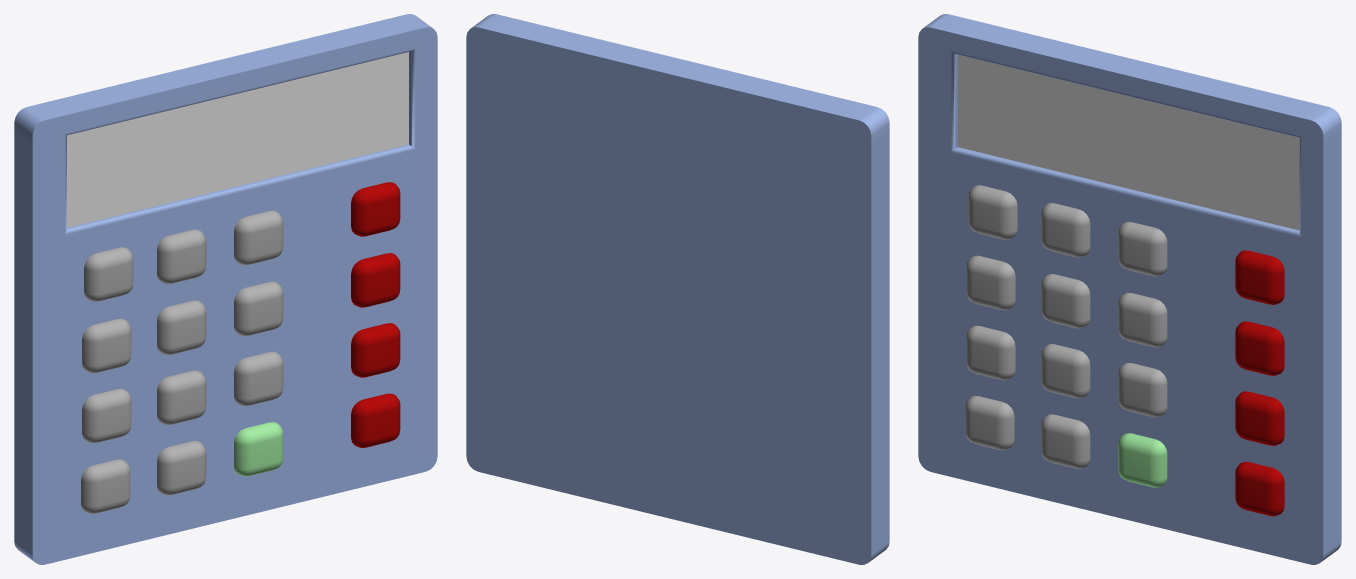
File: Calculatrice_Geo.fbx
3 views of the same model, side by side, from view 1: azimuth 30°, elevation 25°; view 2: azimuth 150°, elevation 25°; view 3: azimuth 330°, elevation 25° (orthographic).
Visible parts, largest first — view 1: BaseCalculatrice, Bouton10, Bouton16, Bouton18, Bouton3, Bouton11, Bouton7, Bouton15, Bouton2, Bouton13, Bouton8, Bouton12 (+5 smaller); view 2: BaseCalculatrice; view 3: BaseCalculatrice, Bouton15, Bouton20, Bouton13, Bouton2, Bouton9, Bouton4, Bouton5, Bouton8, Bouton10, Bouton16, Bouton7 (+5 smaller).
Part boxes in pixels (left/top/right/bottom): BaseCalculatrice: left=14, top=14, right=437, bottom=564; Bouton10: left=82, top=388, right=131, bottom=443; Bouton16: left=351, top=393, right=400, bottom=447; Bouton18: left=82, top=318, right=131, bottom=373; Bouton3: left=234, top=210, right=283, bottom=265; Bouton11: left=234, top=351, right=283, bottom=406; Bouton7: left=234, top=281, right=283, bottom=336; Bouton15: left=234, top=422, right=283, bottom=476; Bouton2: left=157, top=229, right=206, bottom=283; Bouton13: left=157, top=441, right=206, bottom=495; Bouton8: left=351, top=253, right=400, bottom=307; Bouton12: left=351, top=323, right=400, bottom=377; BaseCalculatrice: left=466, top=14, right=889, bottom=564; BaseCalculatrice: left=918, top=14, right=1341, bottom=564; Bouton15: left=1118, top=433, right=1167, bottom=487; Bouton20: left=968, top=185, right=1017, bottom=239; Bouton13: left=1041, top=414, right=1090, bottom=468; Bouton2: left=1041, top=203, right=1090, bottom=257; Bouton9: left=1041, top=344, right=1090, bottom=398; Bouton4: left=1235, top=250, right=1284, bottom=304; Bouton5: left=1041, top=274, right=1090, bottom=328; Bouton8: left=1235, top=321, right=1284, bottom=375; Bouton10: left=966, top=325, right=1015, bottom=380; Bouton16: left=1235, top=461, right=1284, bottom=516; Bouton7: left=1118, top=292, right=1167, bottom=347.
Bounding box in the file's own units: 10.95 × 11.48 × 1.17.
